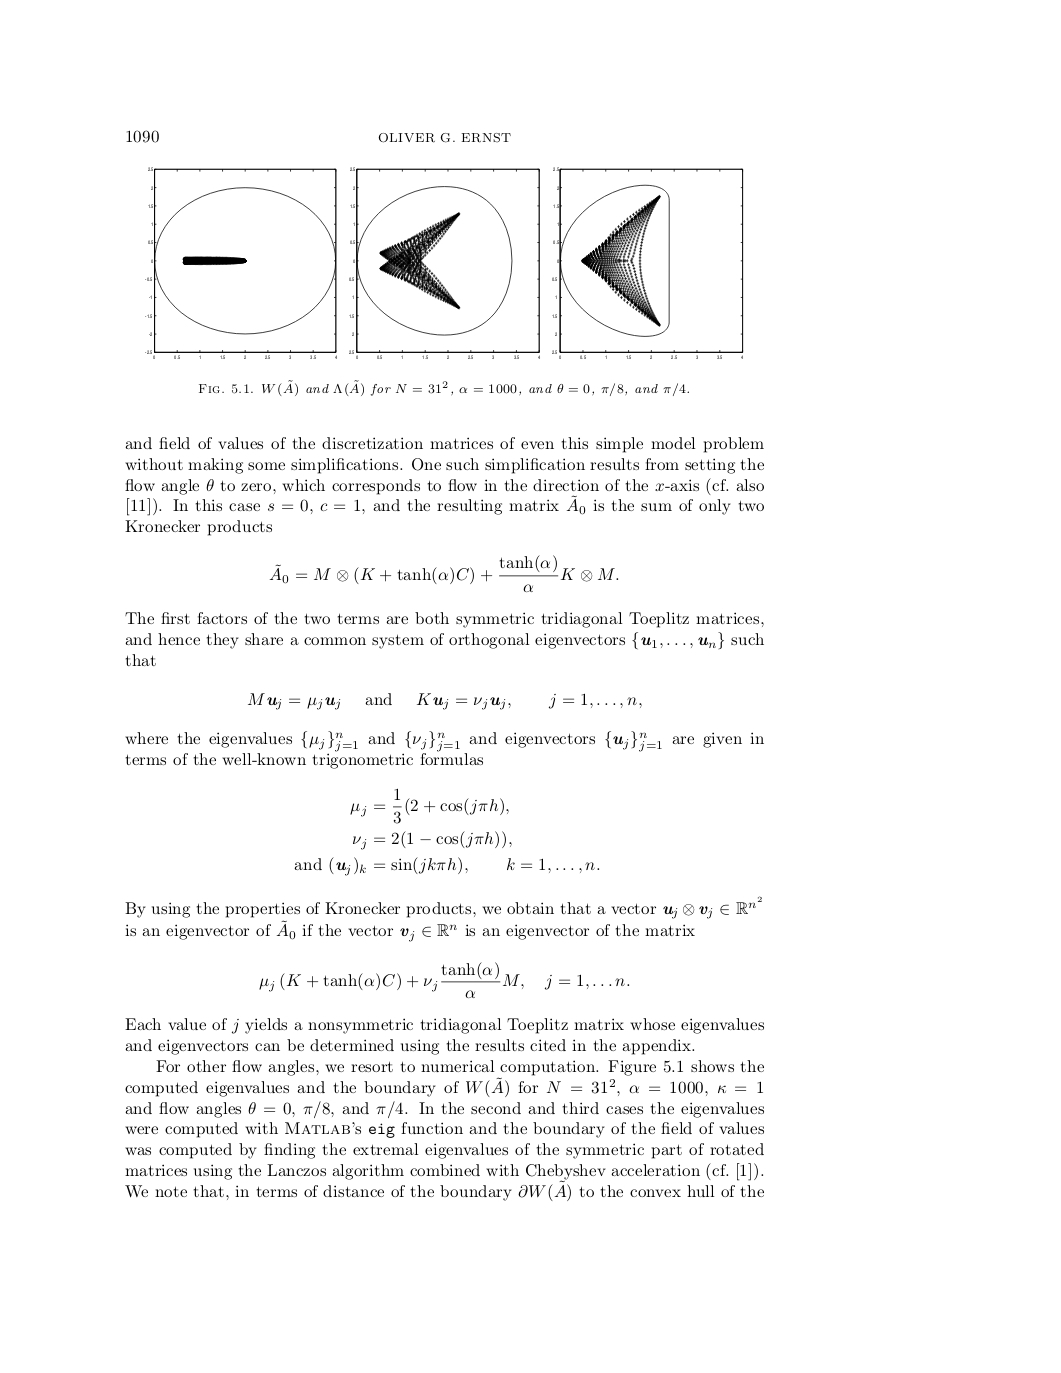figure: (552, 166, 743, 359), (145, 166, 335, 359), (349, 166, 539, 359)
formula: (259, 961, 629, 999), (269, 554, 619, 593), (247, 692, 641, 710), (294, 856, 598, 876), (350, 787, 508, 824), (353, 830, 512, 850)
